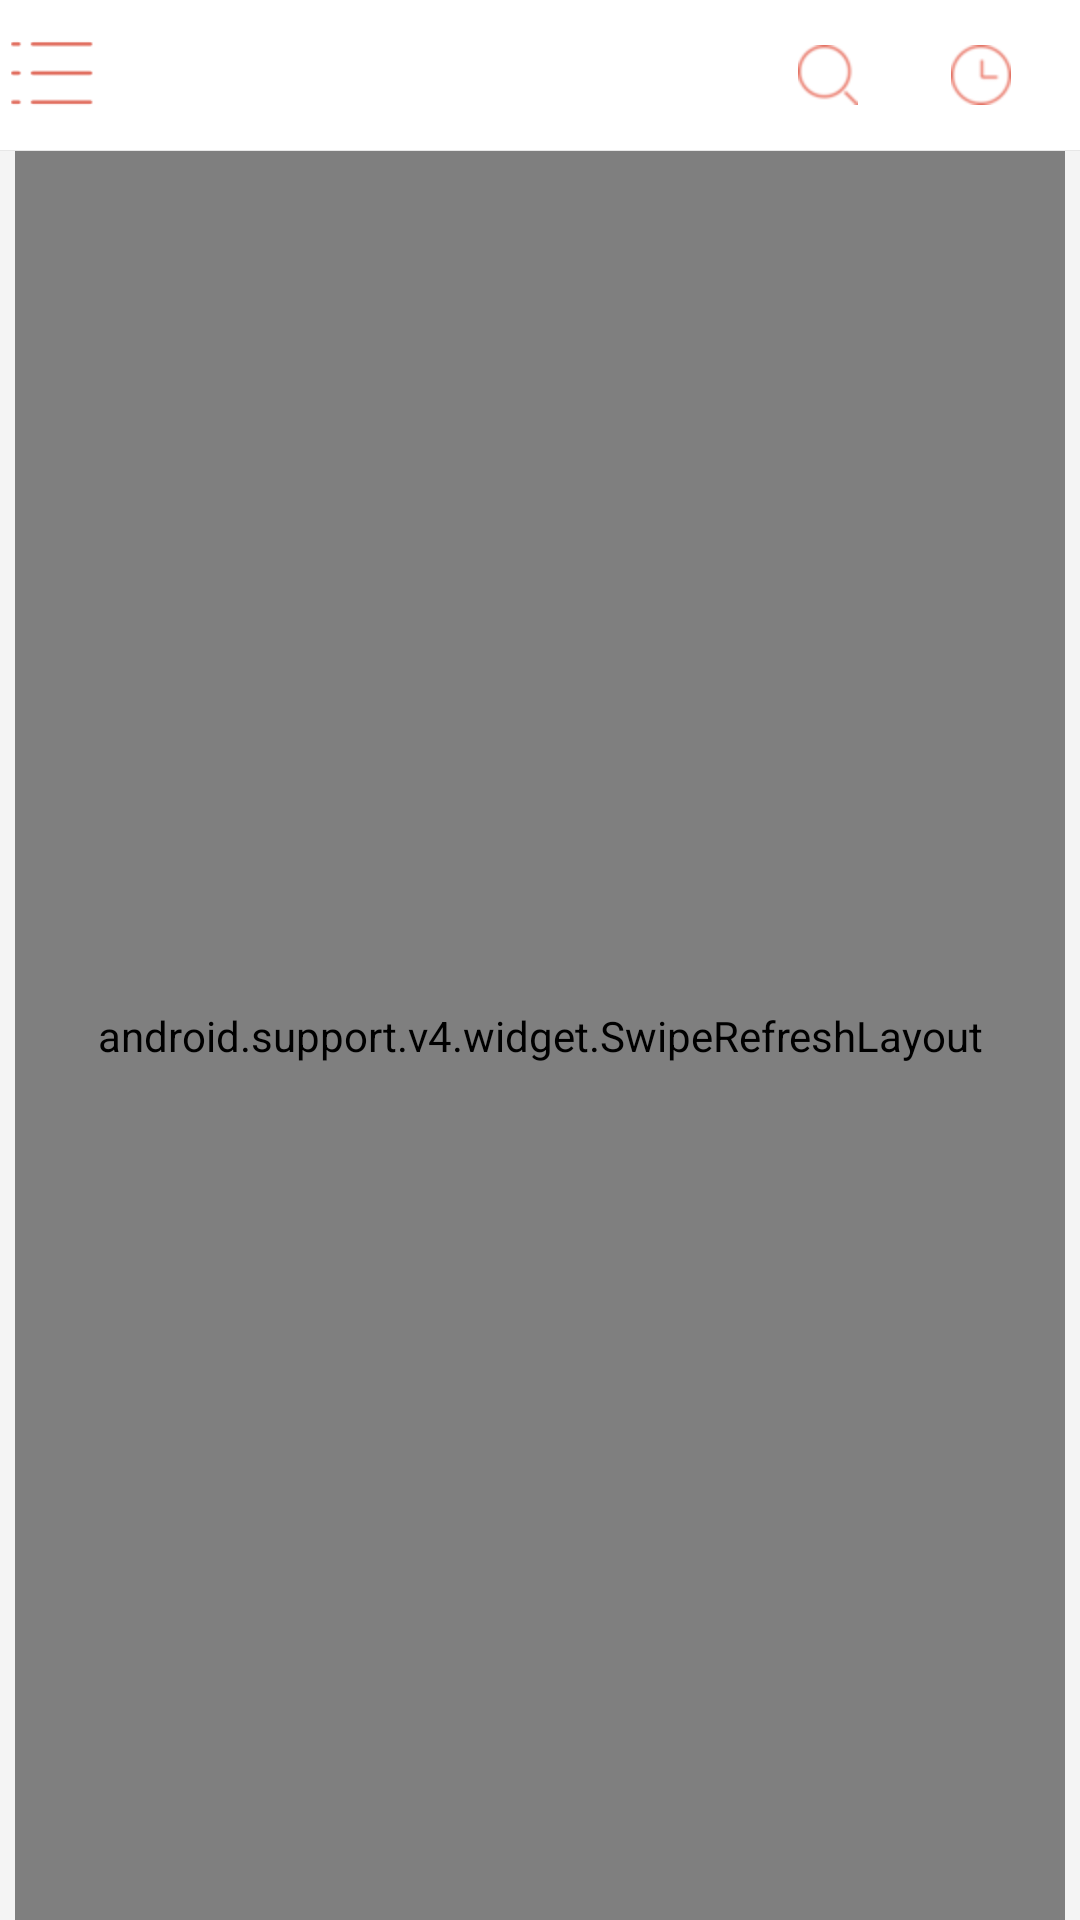

Locate icon controls on the screen. Image size 1080 x 1920, boxes as (x1, y1, x2, y2).
history: (951, 45, 1011, 105)
search: (798, 45, 858, 105)
